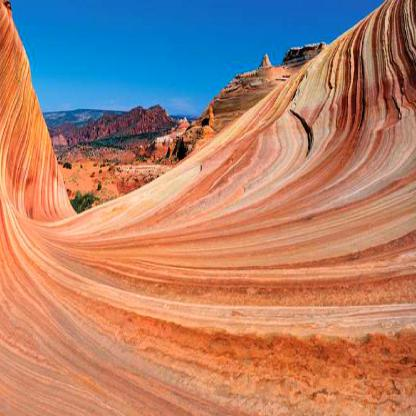Sedimentary_Sandstone: (296, 0, 414, 144), (1, 0, 54, 233), (209, 54, 278, 127)
